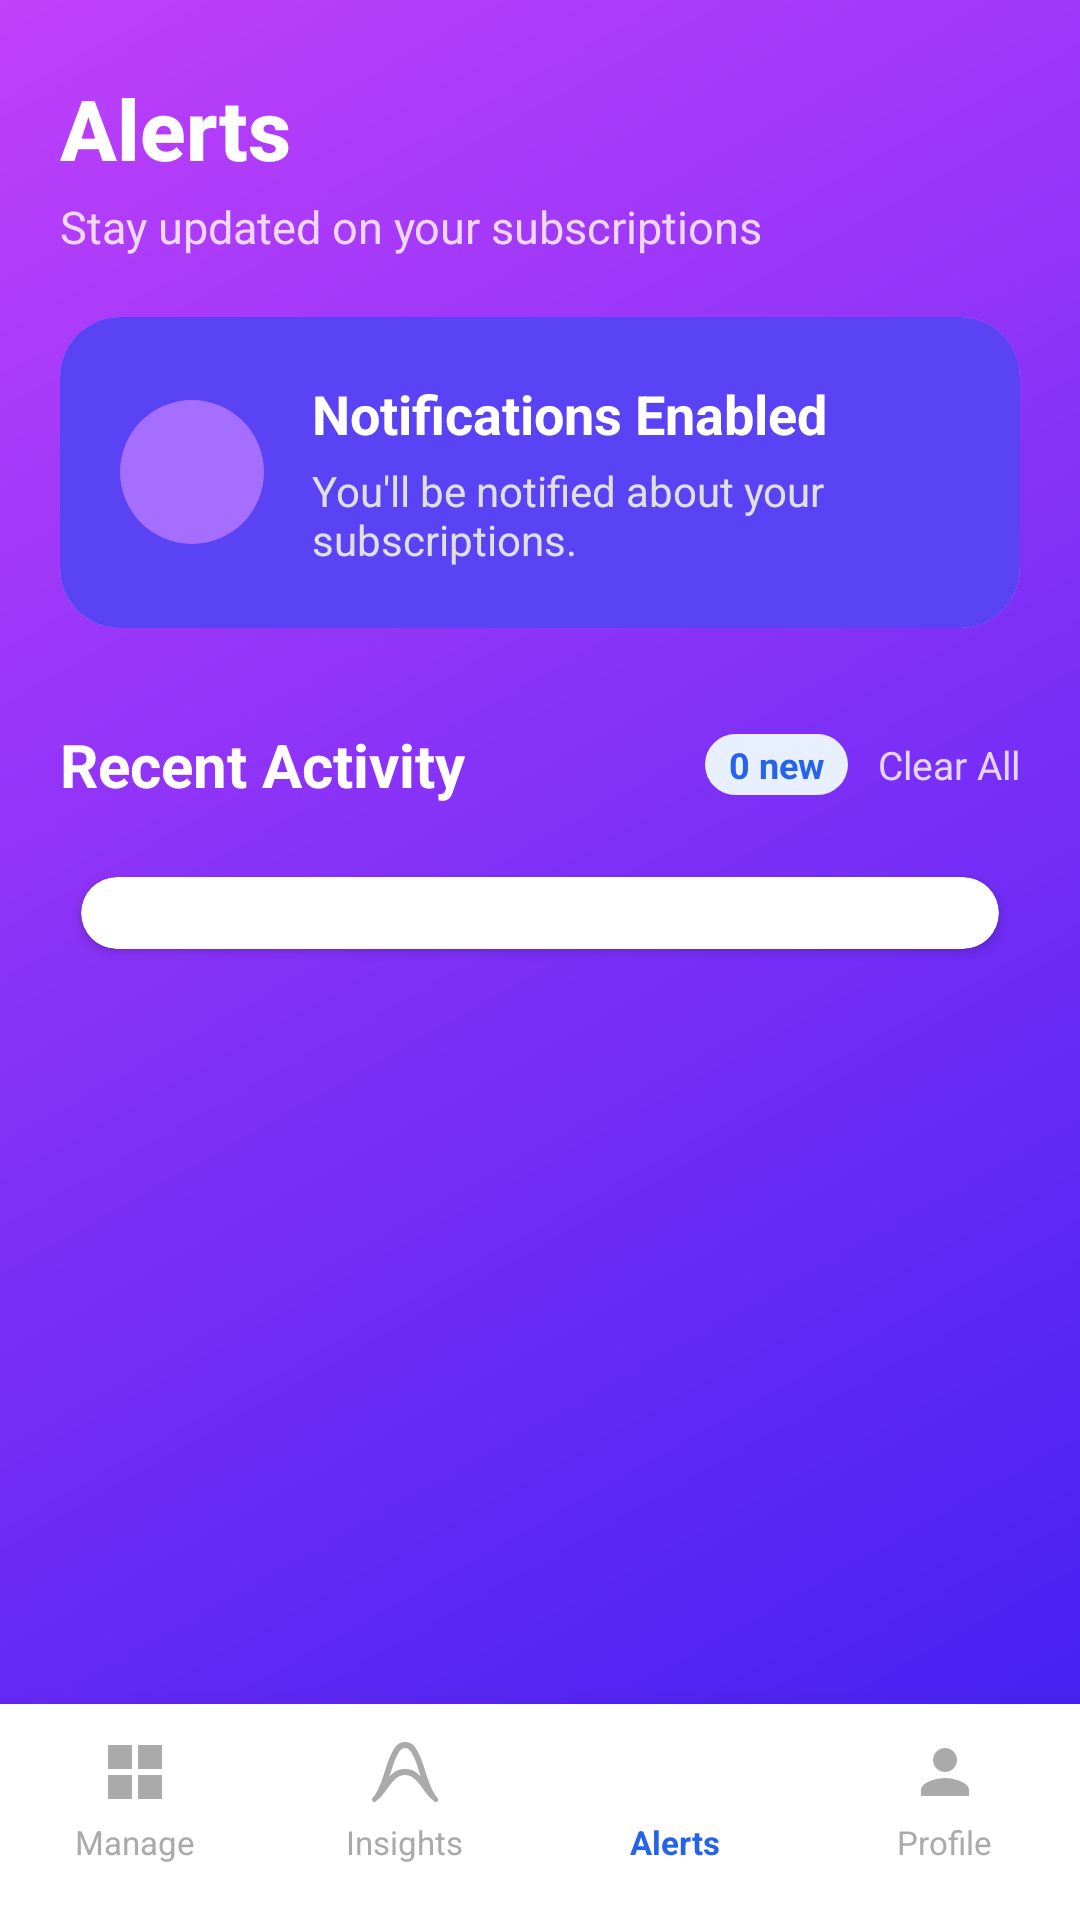

Where icons sit on this 1080w x 1920h app screen, as (left=x1, top=y1, right=x2, bottom=y2):
grid: (left=108, top=1745, right=162, bottom=1799)
person: (left=921, top=1748, right=969, bottom=1796)
